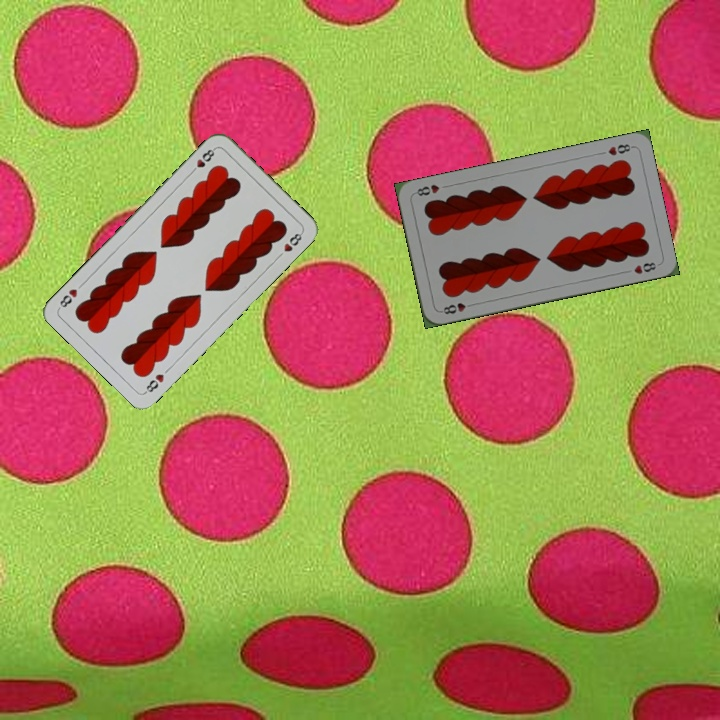H8: (141, 363, 173, 396), (186, 144, 218, 176), (436, 299, 477, 317), (604, 140, 636, 158)
